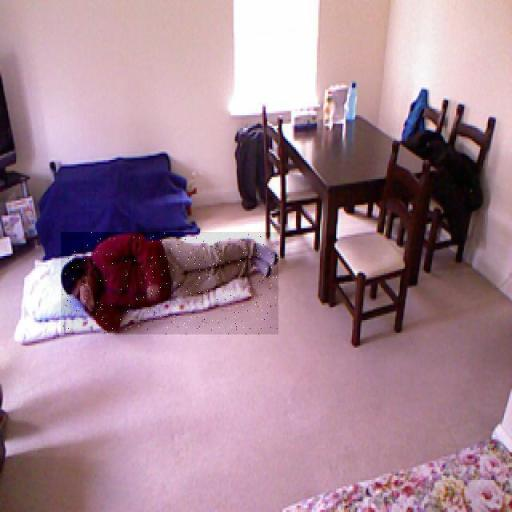Fall: (61, 233, 278, 335)
